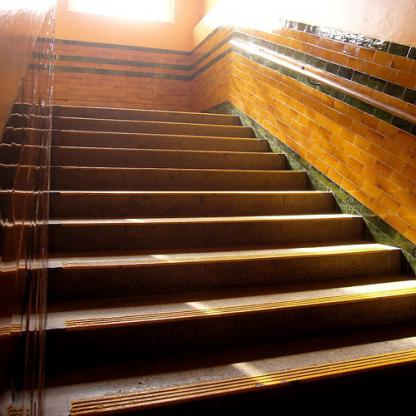stairs: (68, 152, 282, 416)
